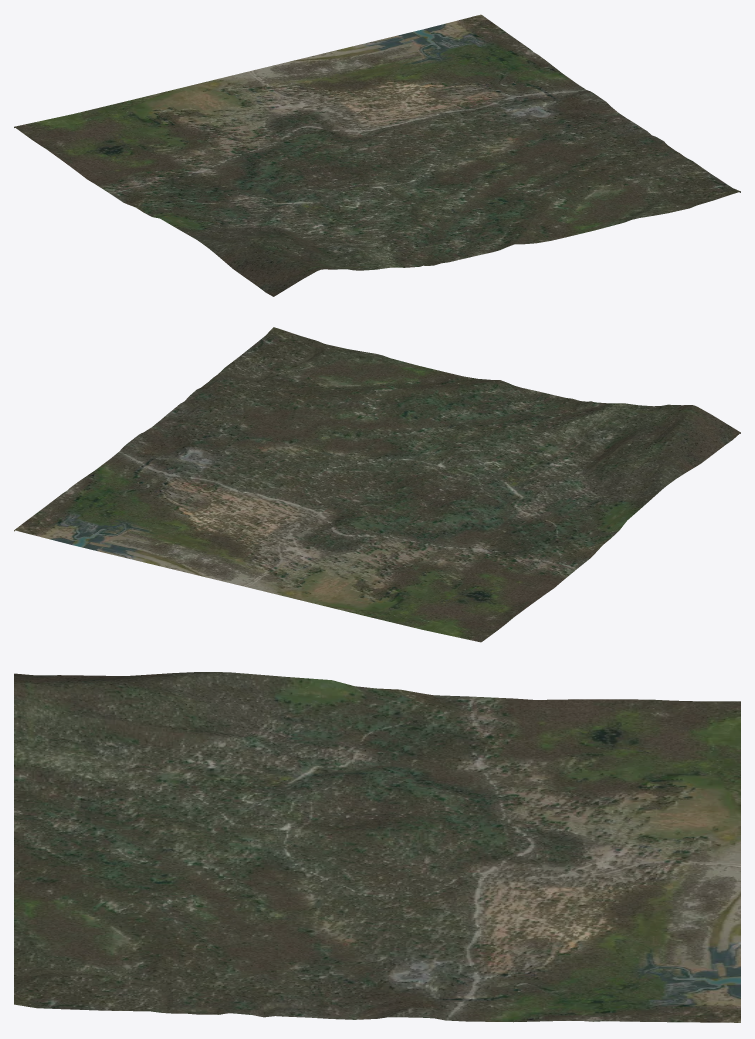
The picture shows the model from 3 angles, top to bottom: view 1: azimuth 30°, elevation 25°; view 2: azimuth 150°, elevation 25°; view 3: azimuth 270°, elevation 25°; orthographic projection. The views are drawn at different scales.
Bounding box in the file's own units: 2000 × 162 × 1925.
1 material, 1 textured.
